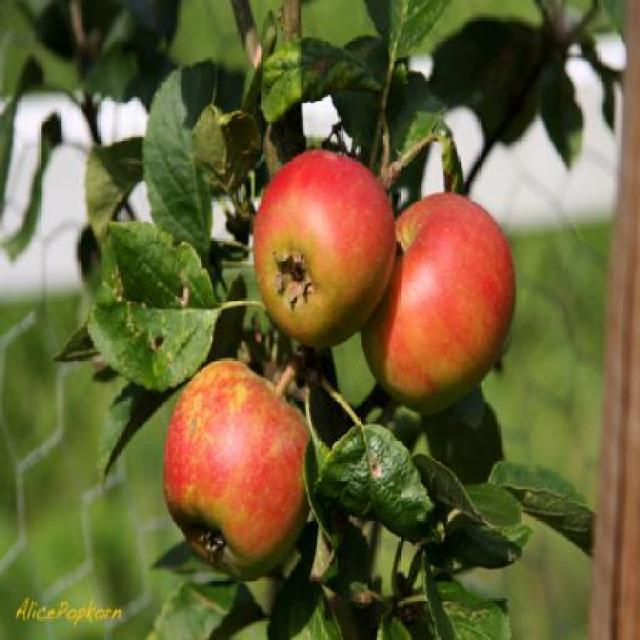Apple pie: (360, 193, 517, 424), (162, 351, 313, 580), (252, 160, 397, 352)
